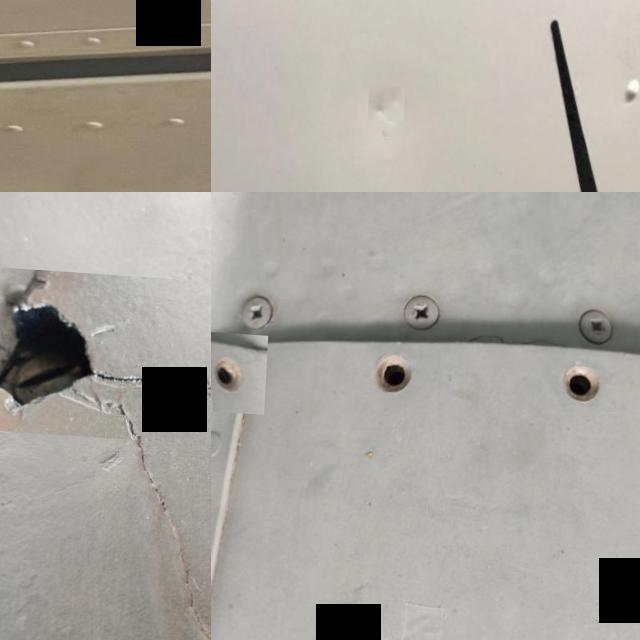Crack: (0, 265, 211, 452)
Dent: (372, 83, 408, 116)
Missing_Fastener: (348, 332, 441, 424), (540, 334, 628, 427), (211, 329, 271, 412)
